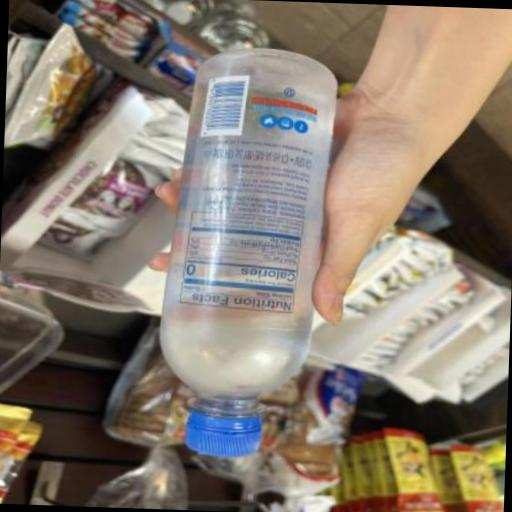Coca: (146, 33, 348, 470)
